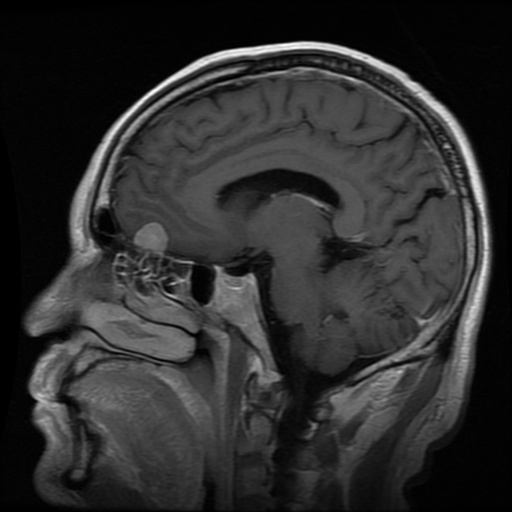meningioma: (132, 220, 167, 251)
